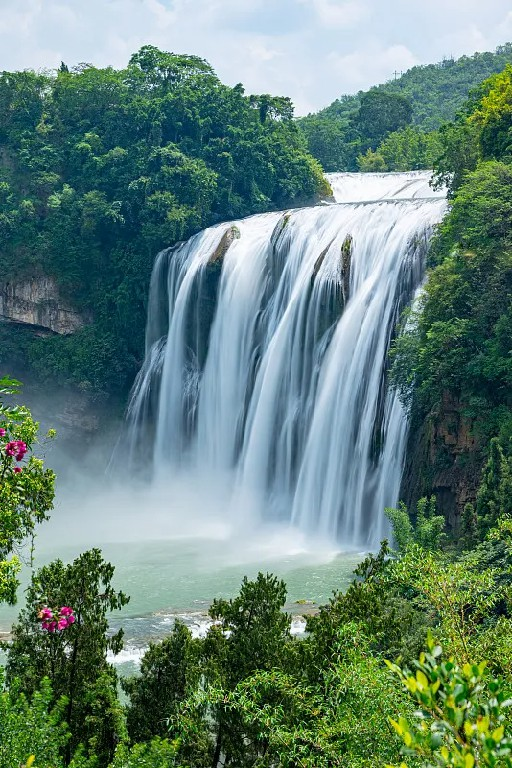Huangguoshu: (124, 172, 451, 547)
